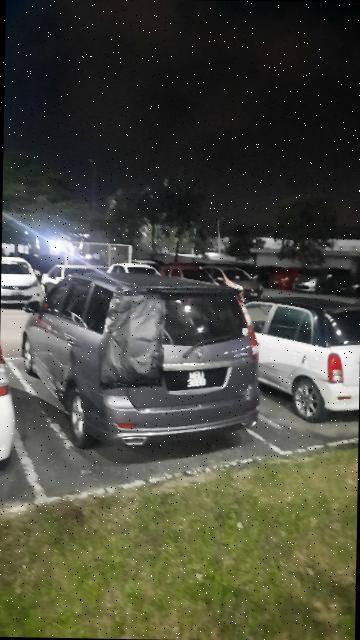License_Plate: (161, 368, 231, 394)
car: (21, 276, 265, 452), (235, 294, 360, 426), (2, 255, 42, 312)
